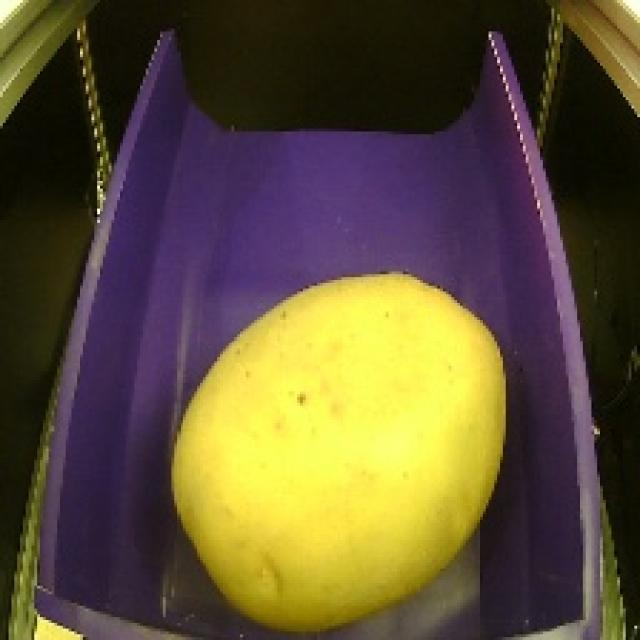full_potato: (152, 258, 516, 634)
